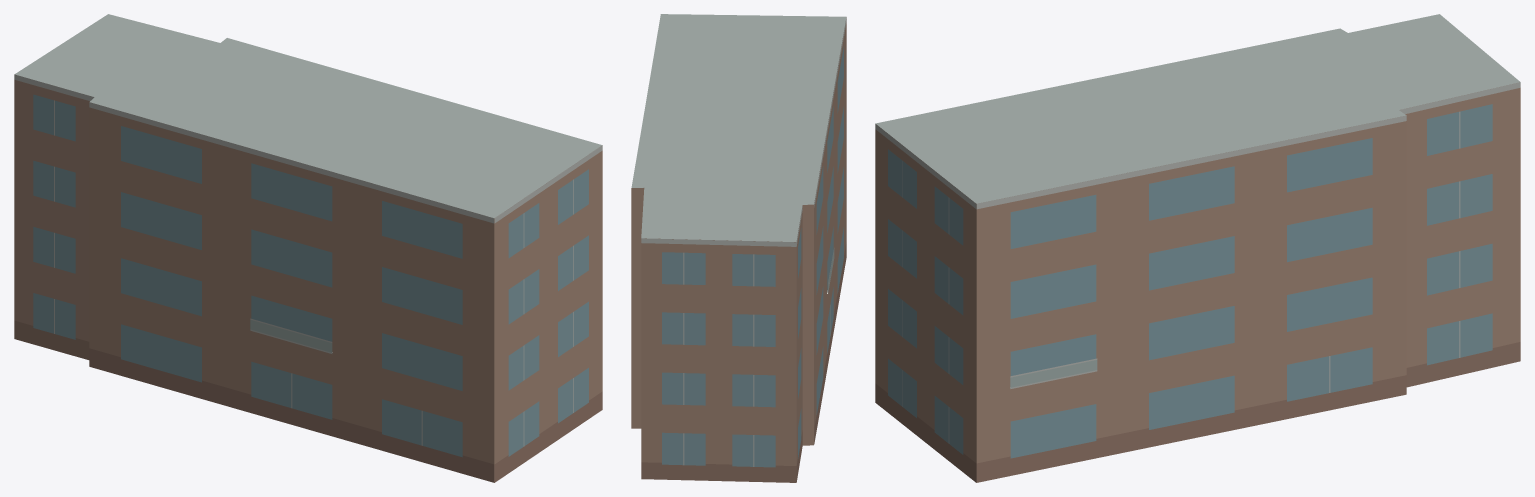
Rendered from survey-upis-32921963.glb.
The picture shows the model from 3 angles, left to right: view 1: azimuth 30°, elevation 25°; view 2: azimuth 150°, elevation 25°; view 3: azimuth 270°, elevation 25°; orthographic projection. The views are drawn at different scales.
Parts seen in each view (by area): view 1: survey-upis-32921963.tmp; view 2: survey-upis-32921963.tmp; view 3: survey-upis-32921963.tmp.
Boxes of the visible parts, bbox=[...] form: survey-upis-32921963.tmp: bbox=[14, 14, 602, 482]; survey-upis-32921963.tmp: bbox=[631, 14, 846, 482]; survey-upis-32921963.tmp: bbox=[875, 14, 1520, 482].
Size of the model in its own units: 17.8 by 12.2 by 25.58.
